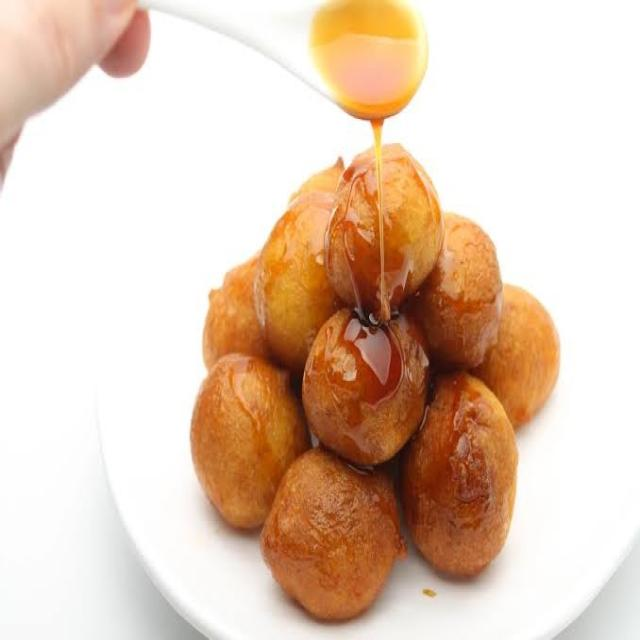Luqaimat: (202, 144, 548, 608)
